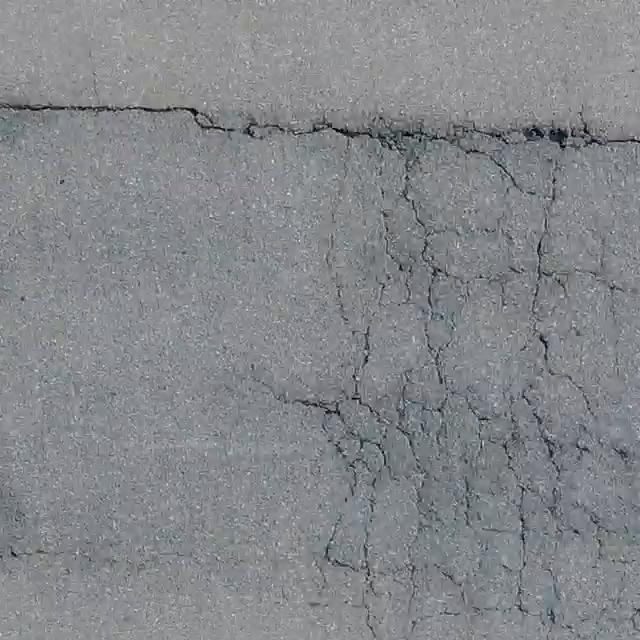GRIETA: (0, 99, 345, 140), (253, 379, 324, 407), (7, 545, 94, 559)
PIEL DE COCODRILO: (311, 117, 639, 639)
